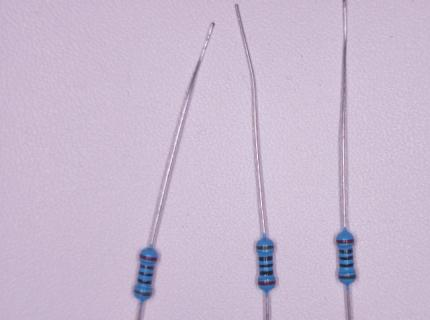Black band: (137, 278, 152, 285), (339, 248, 353, 254), (140, 264, 154, 269), (139, 271, 153, 276), (259, 256, 273, 261), (259, 270, 273, 275), (259, 264, 273, 268), (339, 256, 353, 260), (340, 263, 353, 267)
Brown band: (134, 289, 152, 296), (339, 274, 356, 279), (256, 246, 274, 249)
Red band: (140, 253, 158, 261), (258, 281, 276, 285), (337, 239, 354, 243)
